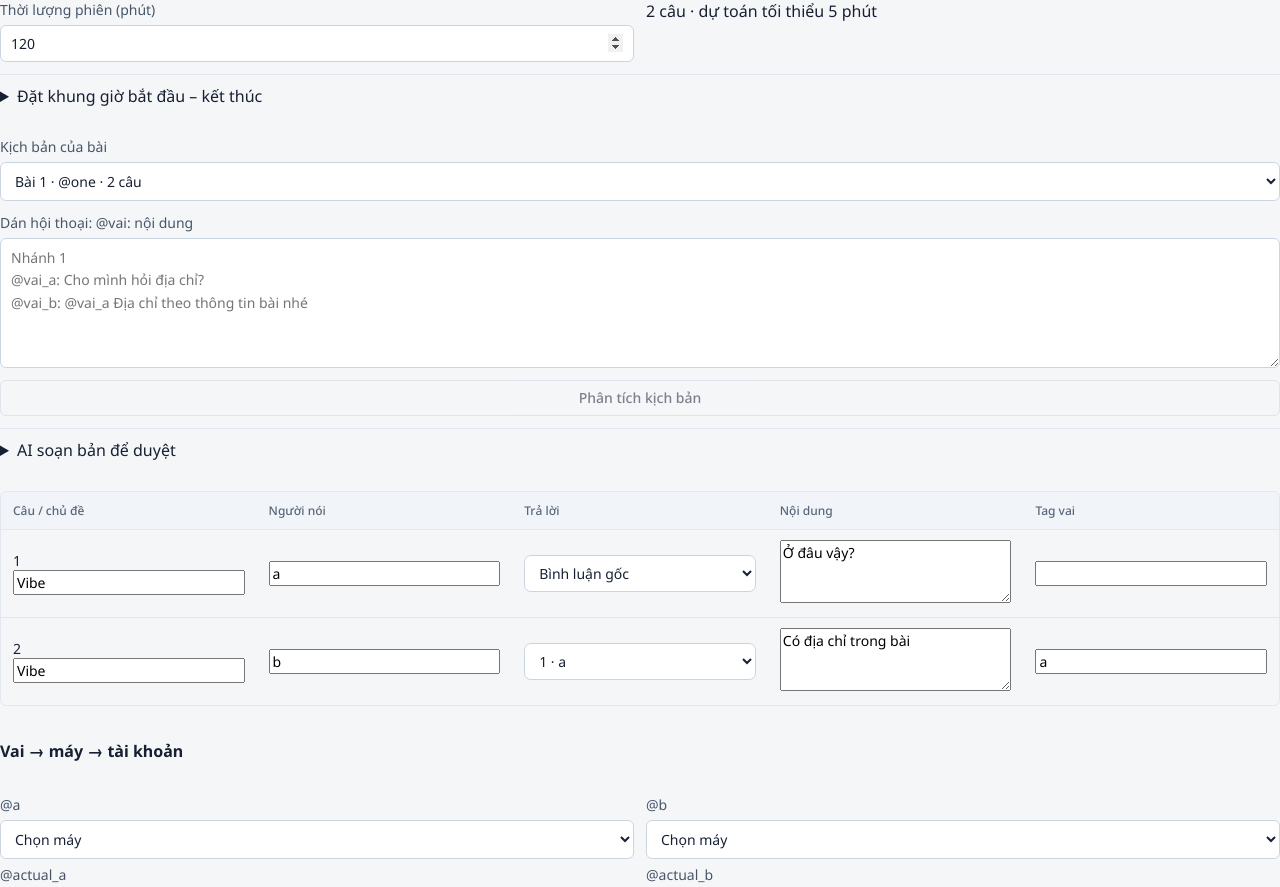
Test: scripted conversation › does not show an old failure against a newly selected target
Replace the text in the text box labelled "Dán hội thoại: @vai: nội dung" with "@a: hello" at (640, 303), box [0, 238, 1279, 368]
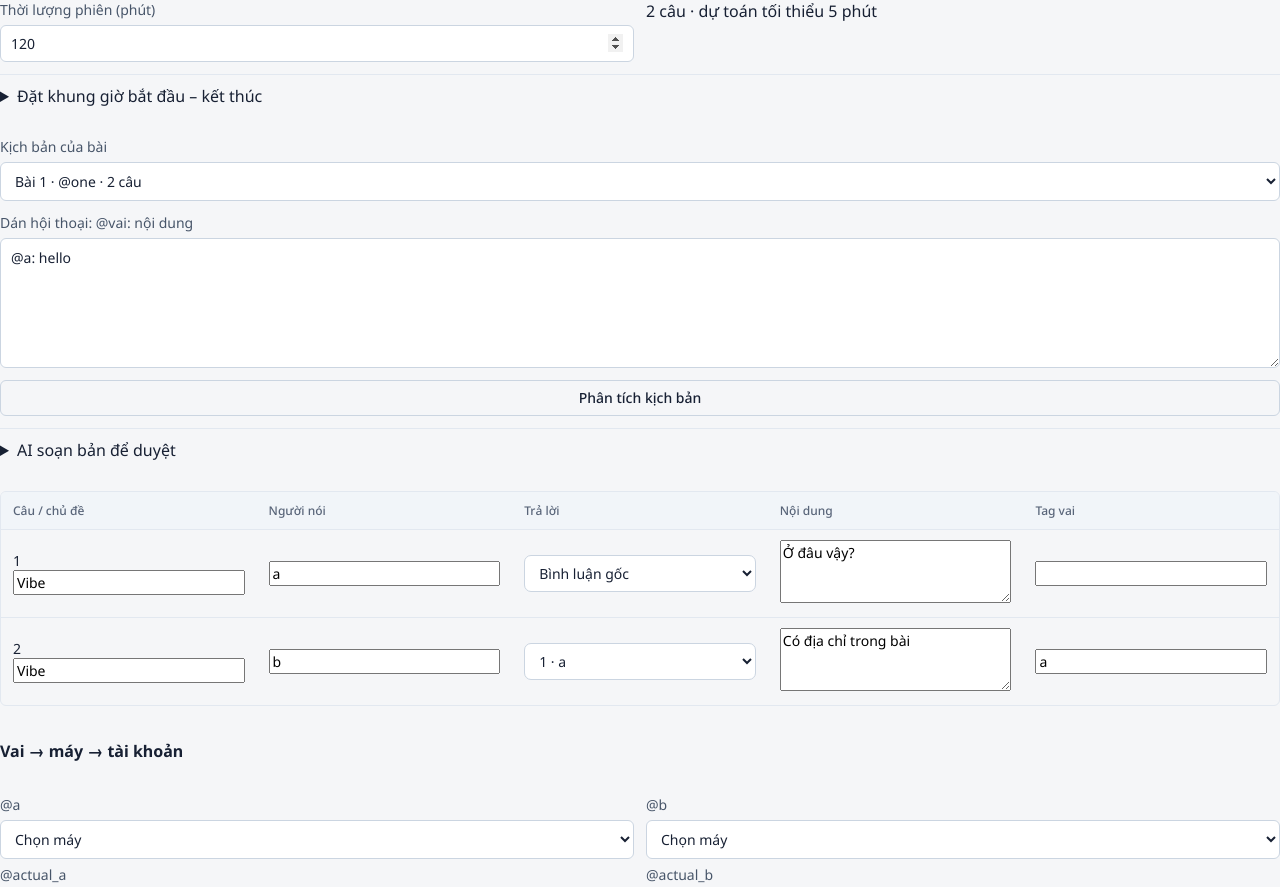
Click the button "Phân tích kịch bản".
click(640, 398)  # box [0, 380, 1279, 416]
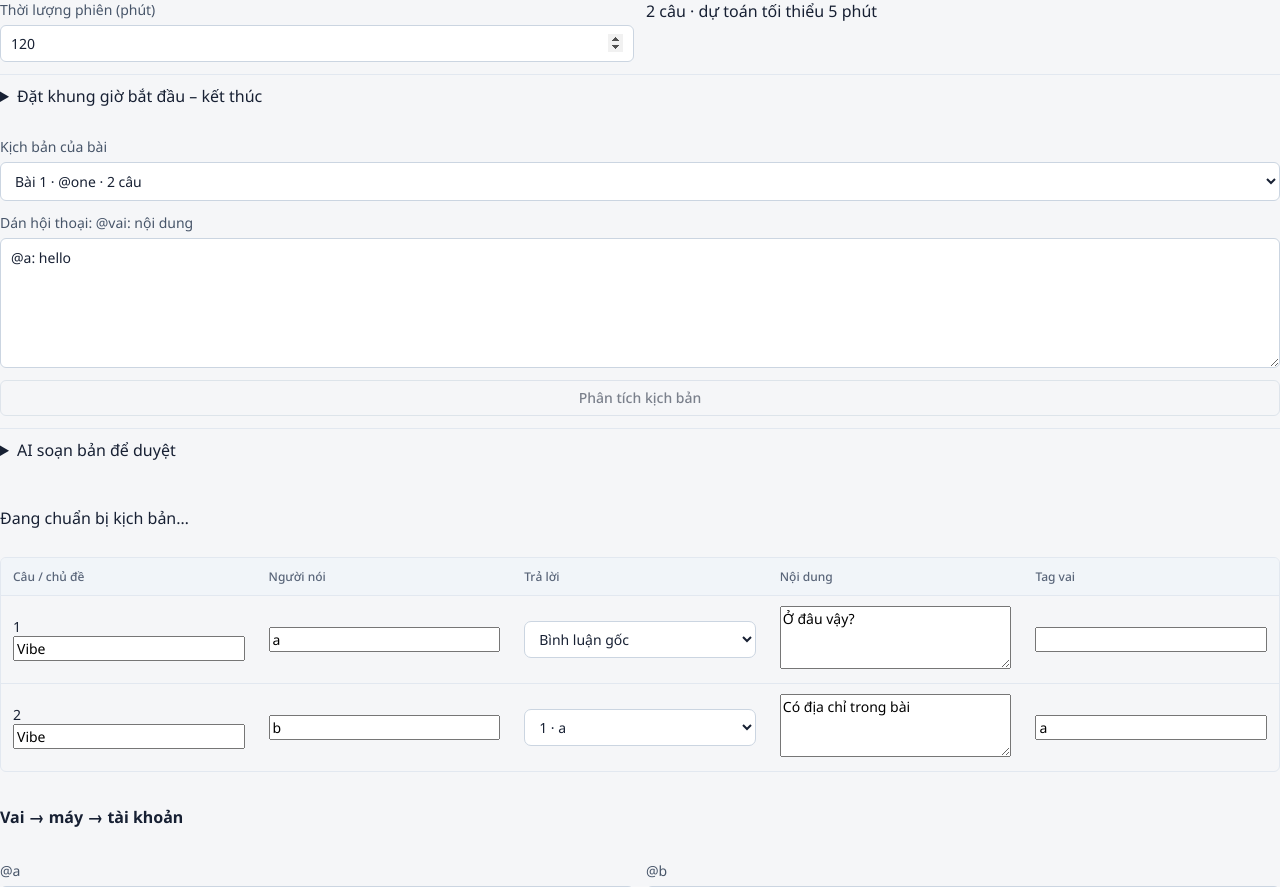
Select "Bài 2 · @two · 0 câu" in the dropdown labelled "Kịch bản của bài" at (640, 182), box [0, 162, 1279, 201]
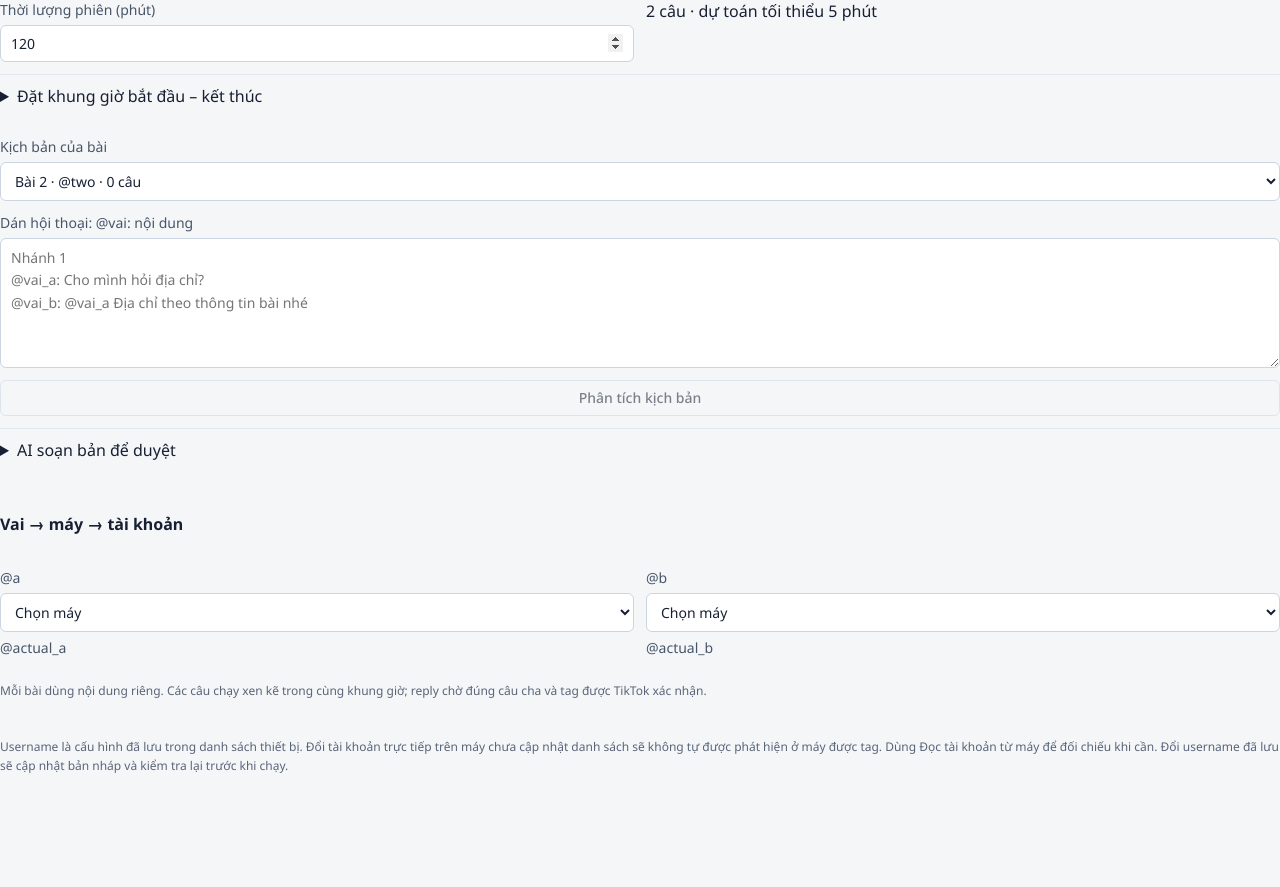
Expected: the message "Đang chuẩn bị kịch bản…" is gone
